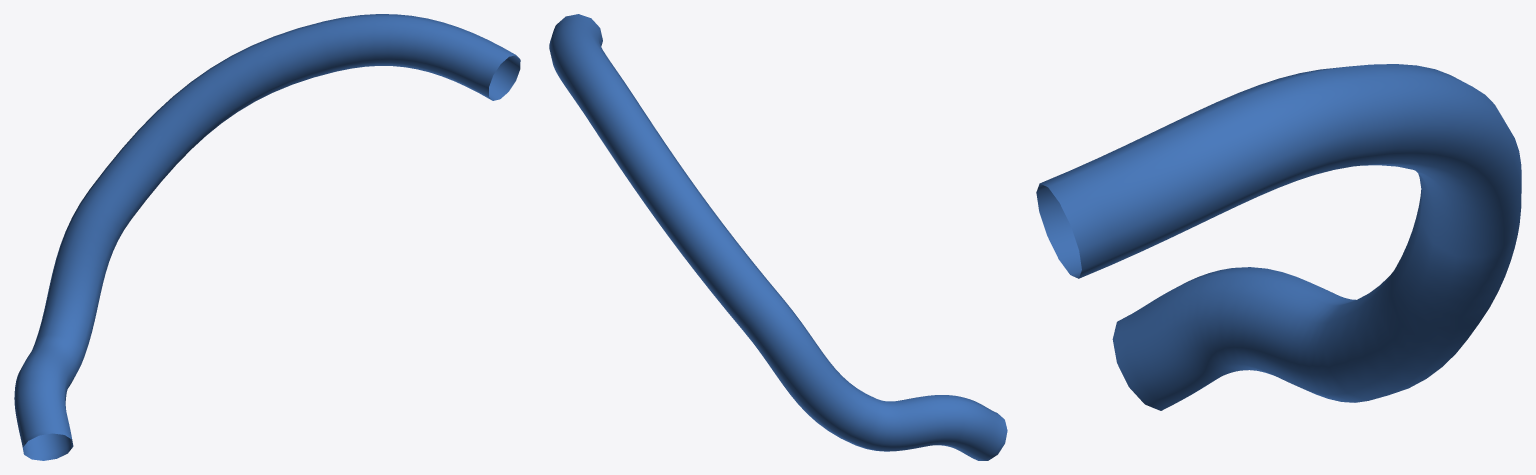
3 views of the same model, side by side, from view 1: azimuth 30°, elevation 25°; view 2: azimuth 150°, elevation 25°; view 3: azimuth 270°, elevation 25° (orthographic). The views are drawn at different scales.
Parts seen in each view (by area): view 1: 冠状窦; view 2: 冠状窦; view 3: 冠状窦.
Boxes of the visible parts, box(x1,y1,x2,y2) form: 冠状窦: box(14, 14, 520, 460); 冠状窦: box(549, 14, 1007, 460); 冠状窦: box(1036, 64, 1521, 410).
Bounding box in the file's own units: 0.0782 × 0.0529 × 0.0347.
